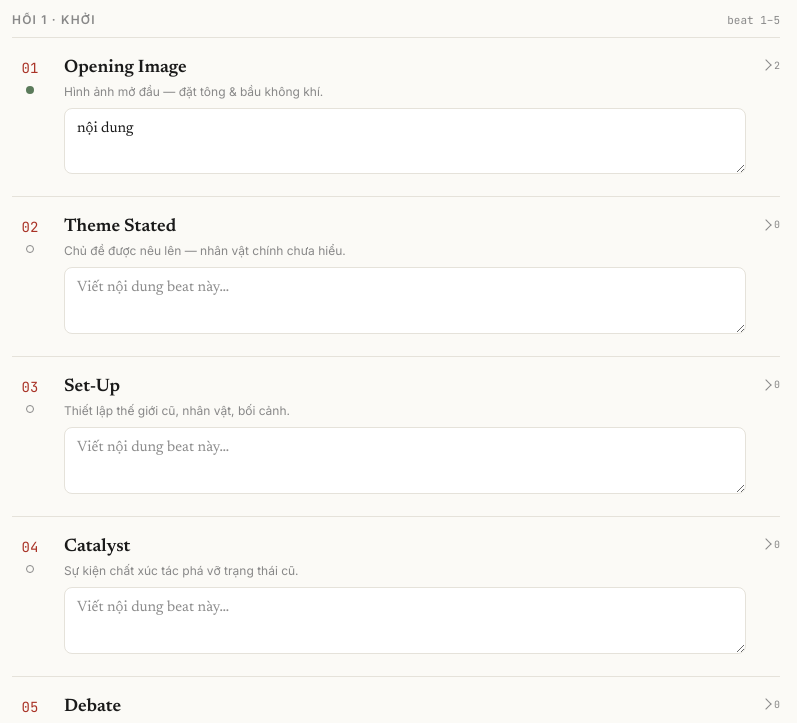
Test: PlotContent (beat sheet Save the Cat) › expand beat → hiển thị scenes thuộc beat đó
Expected: the text box named "Nội dung Opening Image" is shown, [64,108,746,174]
Click the button with test id "expand-1" at [771, 63], box [762,54,780,72]
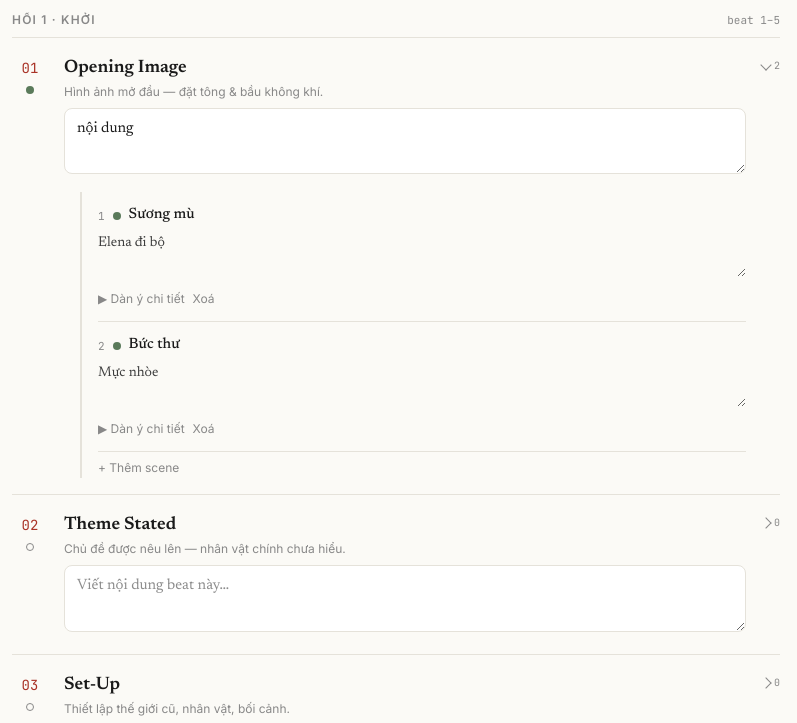
Expected: the field named "Tiêu đề scene 1" holds "Sương mù", [129,204,746,228]
Expected: the field named "Tiêu đề scene 2" holds "Bức thư", [129,334,746,358]
